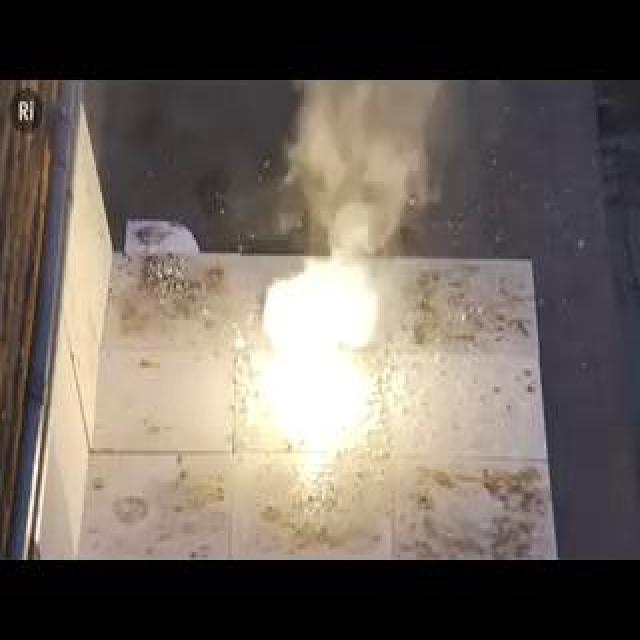Fire: (251, 230, 391, 462)
